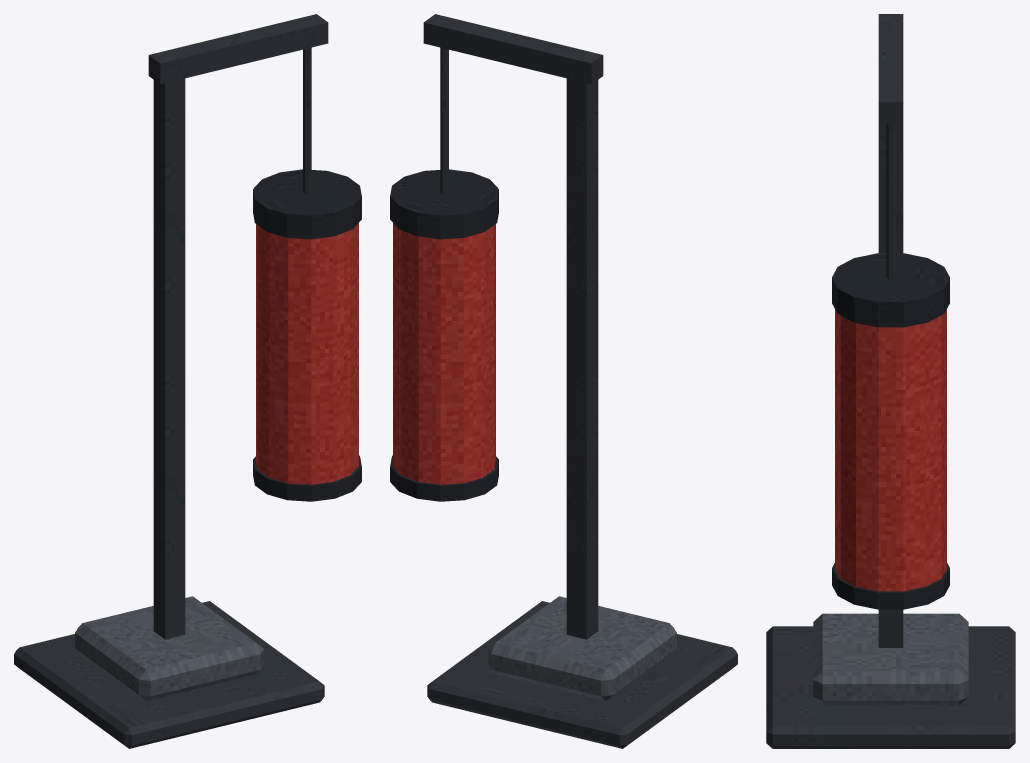
3 renders of one model, left to right at view 1: azimuth 30°, elevation 25°; view 2: azimuth 150°, elevation 25°; view 3: azimuth 270°, elevation 25°, orthographic. The views are drawn at different scales.
Visible parts, largest first — view 1: Decor_punch_bag; view 2: Decor_punch_bag; view 3: Decor_punch_bag.
Boxes of the visible parts, x1,y1,x2,y2 form: Decor_punch_bag: (14,14,361,748); Decor_punch_bag: (390,14,737,748); Decor_punch_bag: (766,14,1015,748).
Bounding box in the file's own units: 1.14 × 2.4 × 0.8.
4 materials, 4 textured.
